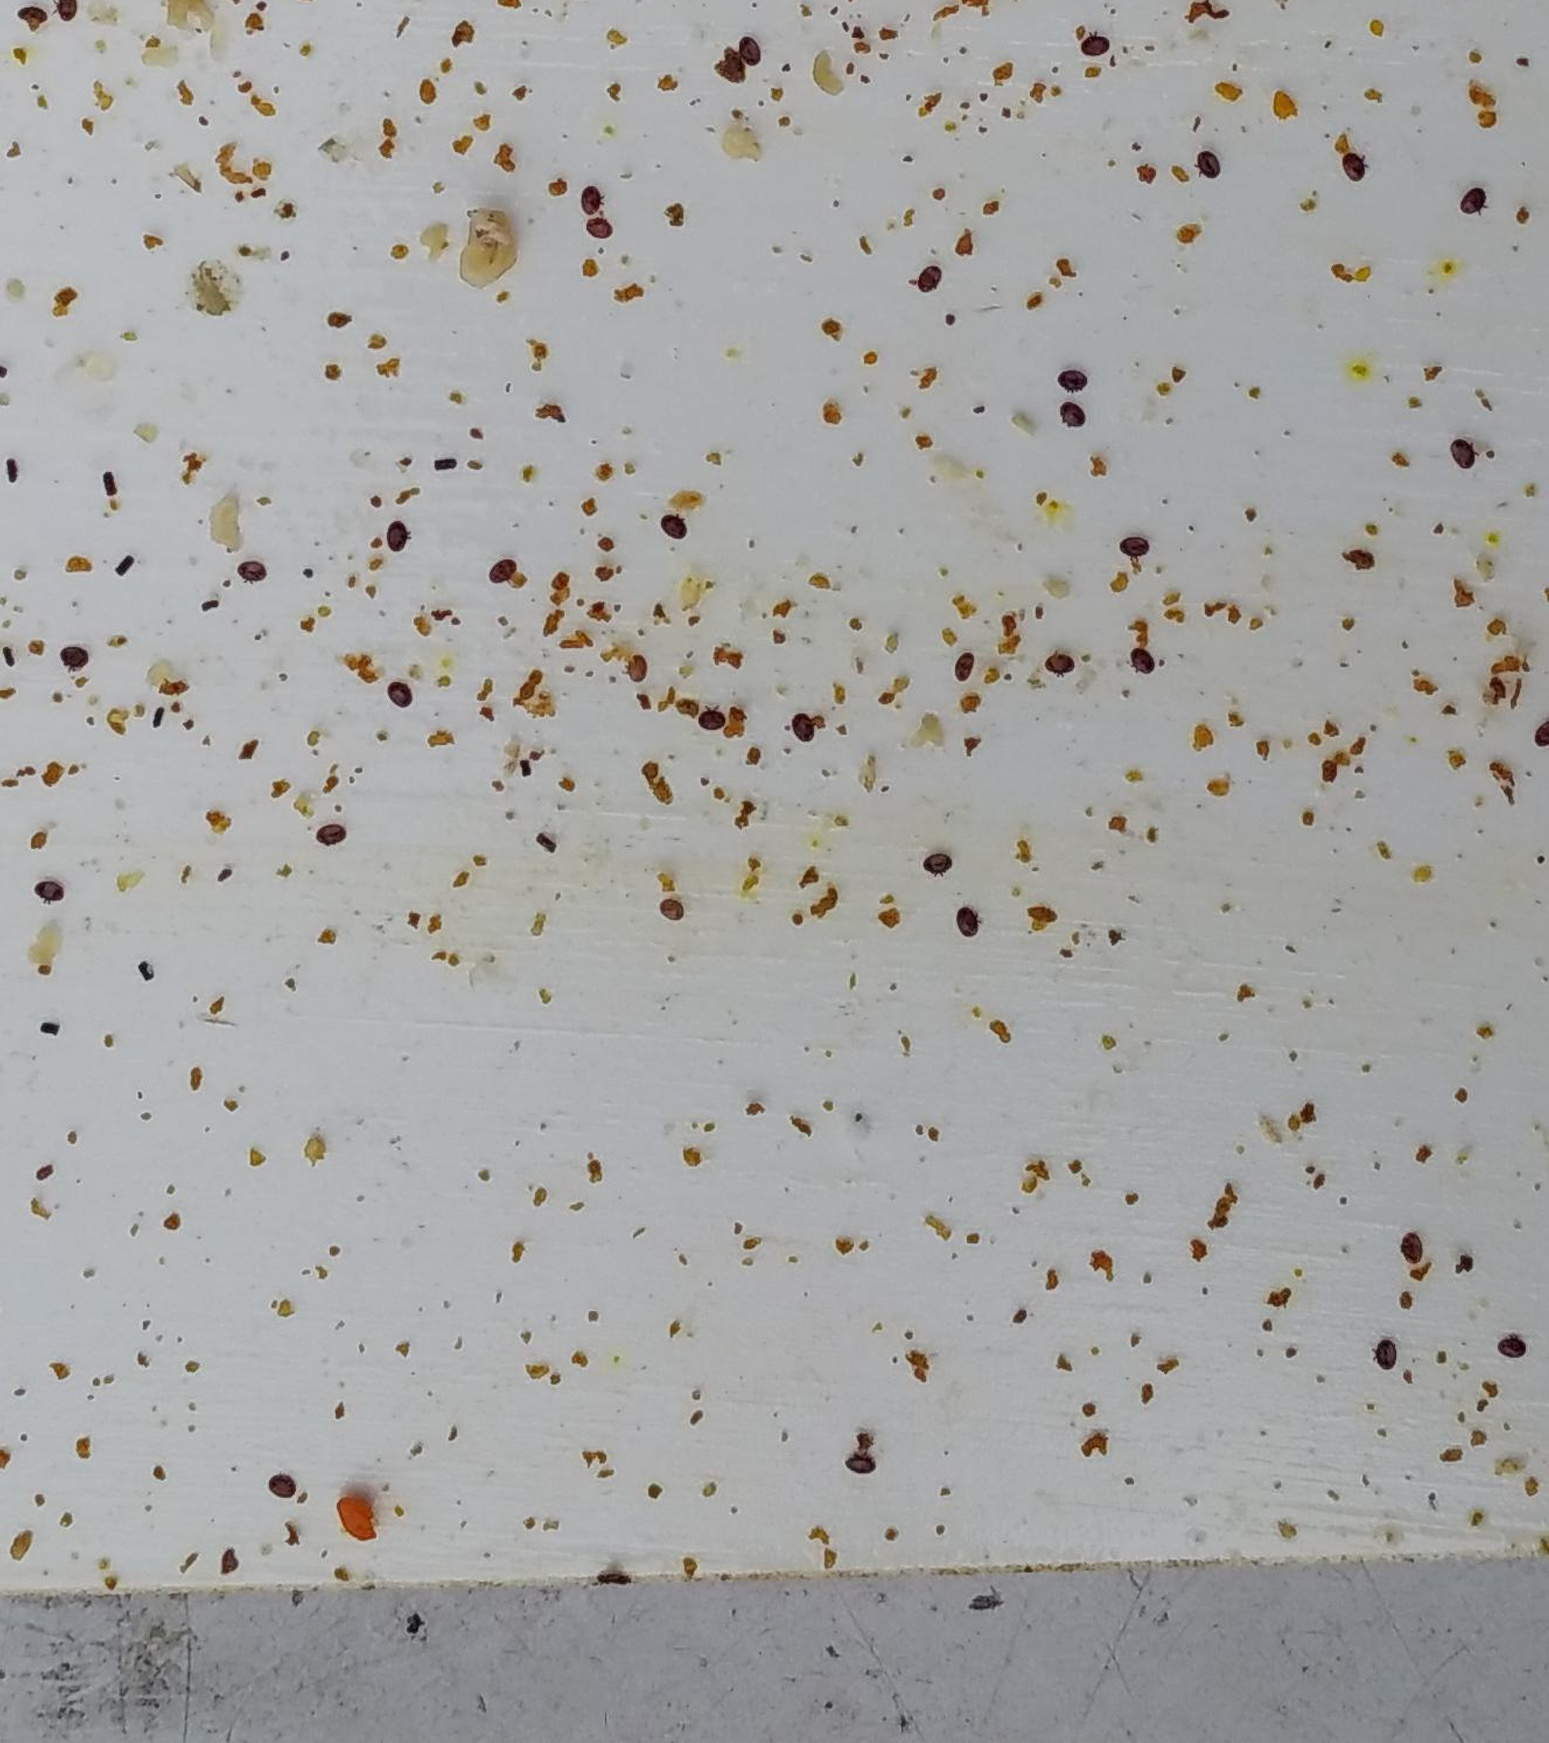Varroa: (656, 895, 695, 937), (383, 676, 419, 712), (1050, 404, 1084, 441), (1398, 1233, 1429, 1274), (1447, 436, 1482, 472), (948, 904, 982, 940), (55, 641, 90, 676), (381, 520, 414, 556), (265, 1469, 298, 1505), (1126, 647, 1159, 682), (1497, 1329, 1530, 1363), (236, 550, 269, 584), (1193, 151, 1226, 185), (574, 181, 607, 215), (1456, 187, 1489, 220), (695, 706, 728, 738), (1334, 152, 1367, 185), (656, 513, 689, 546), (788, 709, 821, 741), (620, 652, 652, 685), (1115, 532, 1148, 564), (846, 1446, 879, 1477), (908, 260, 940, 291), (585, 211, 616, 244), (1078, 33, 1109, 64), (920, 849, 951, 880), (1059, 365, 1090, 396), (31, 874, 61, 907), (1373, 1341, 1402, 1374), (733, 37, 763, 70), (1048, 647, 1078, 679), (321, 824, 350, 855), (487, 556, 516, 586), (948, 653, 976, 683)
